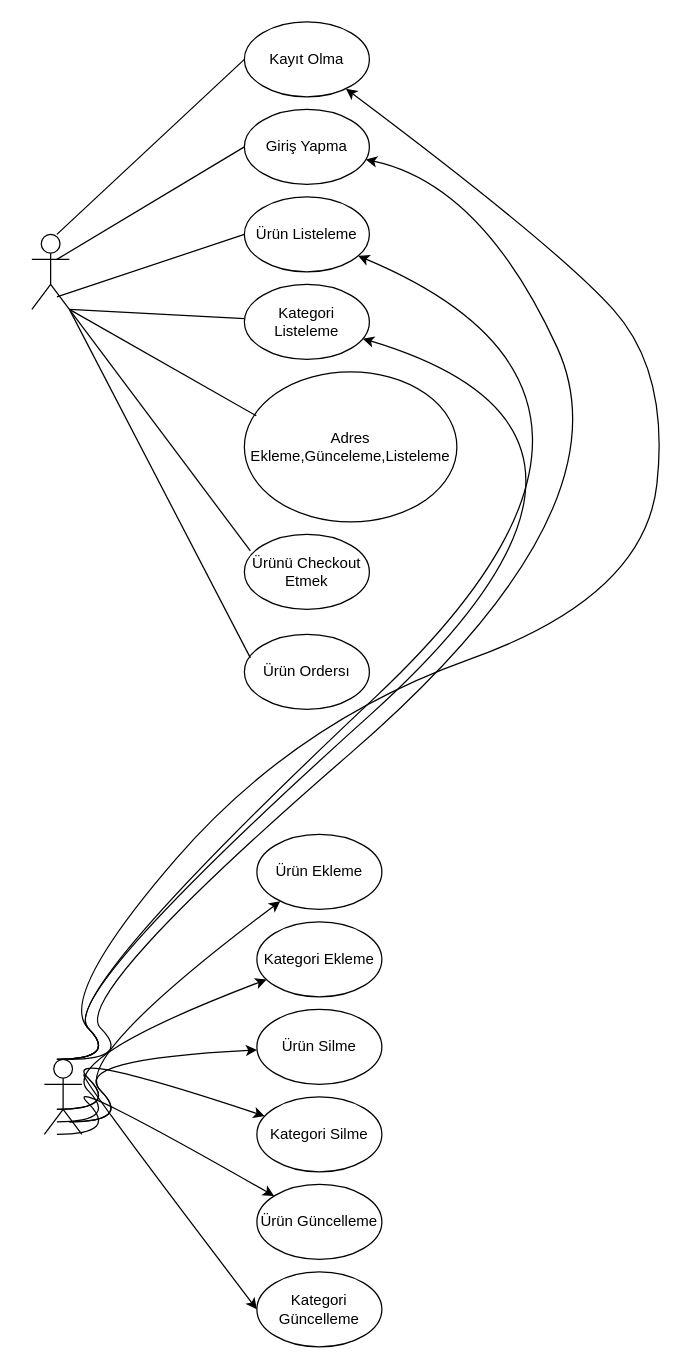
This 681x1369 diagram has some shape labels left out. Each missing label, with the centre of its shape:
"Admin" belongs at [62,1096].
"Kullanıcı" belongs at [50,271].
